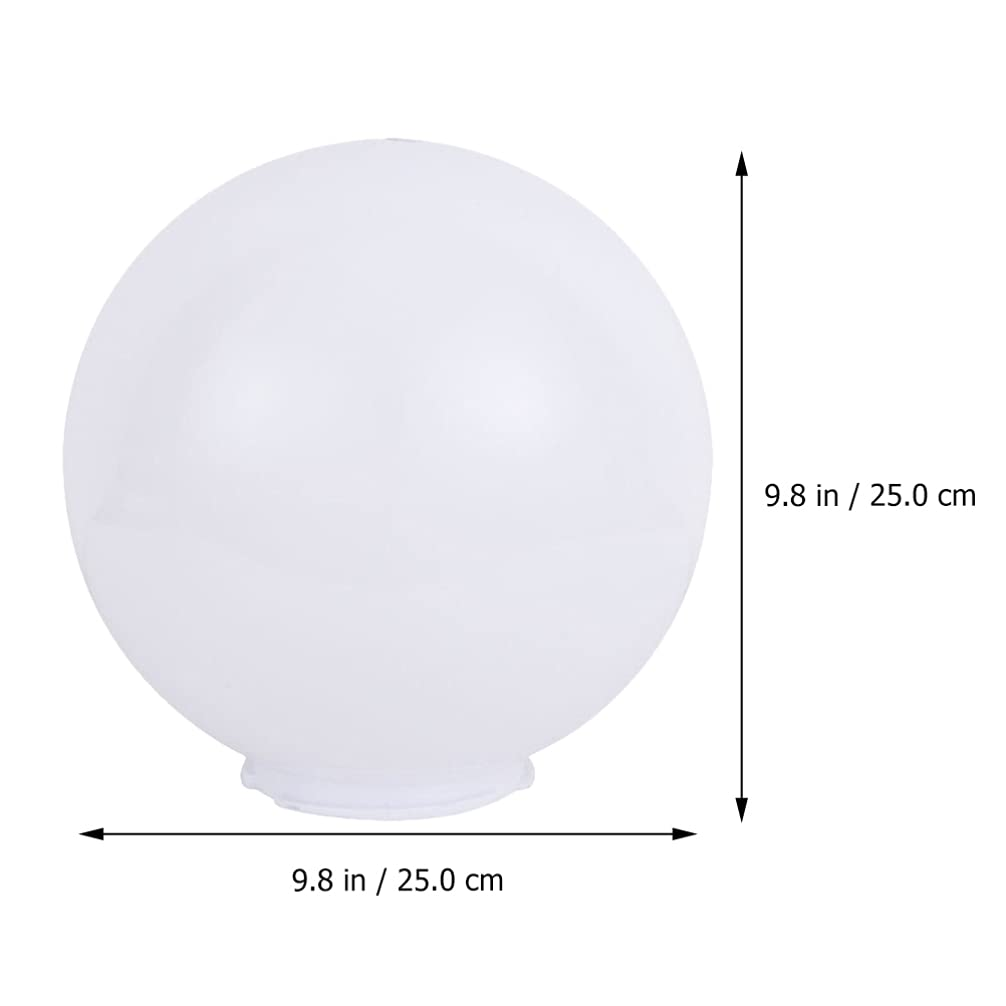/: (376, 868, 387, 896), (854, 483, 859, 510)
25.0: (399, 868, 455, 891), (871, 484, 927, 506)
9.8: (293, 868, 333, 892), (765, 484, 805, 506)
cm: (939, 489, 975, 506), (466, 874, 502, 891)
in: (817, 484, 838, 506), (345, 869, 365, 891)
